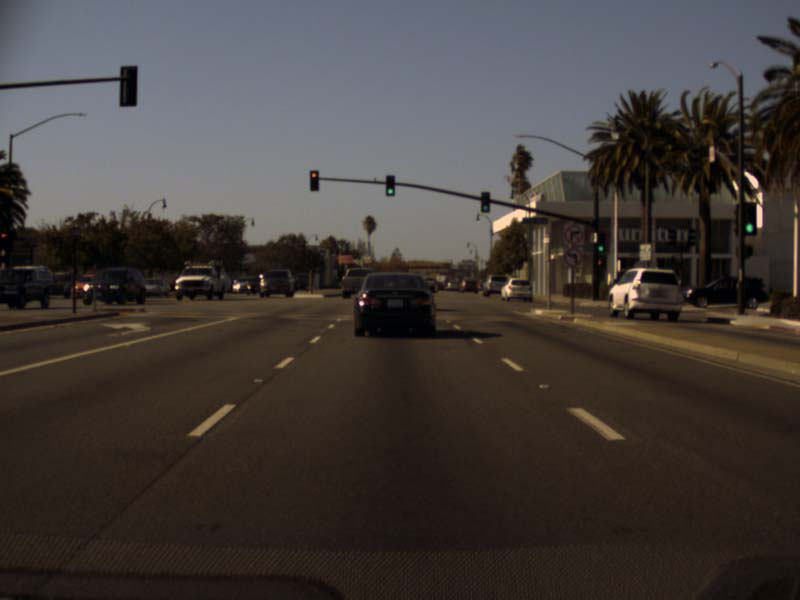Green: (742, 202, 757, 237), (480, 190, 490, 212), (385, 175, 395, 196), (597, 232, 605, 252)
Red: (309, 170, 318, 191)
